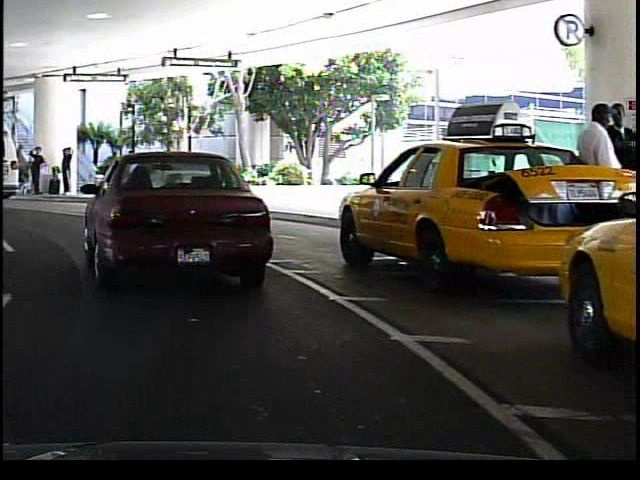person: (567, 102, 620, 266), (605, 96, 640, 267), (115, 145, 142, 197), (24, 142, 46, 201), (54, 142, 74, 199)
